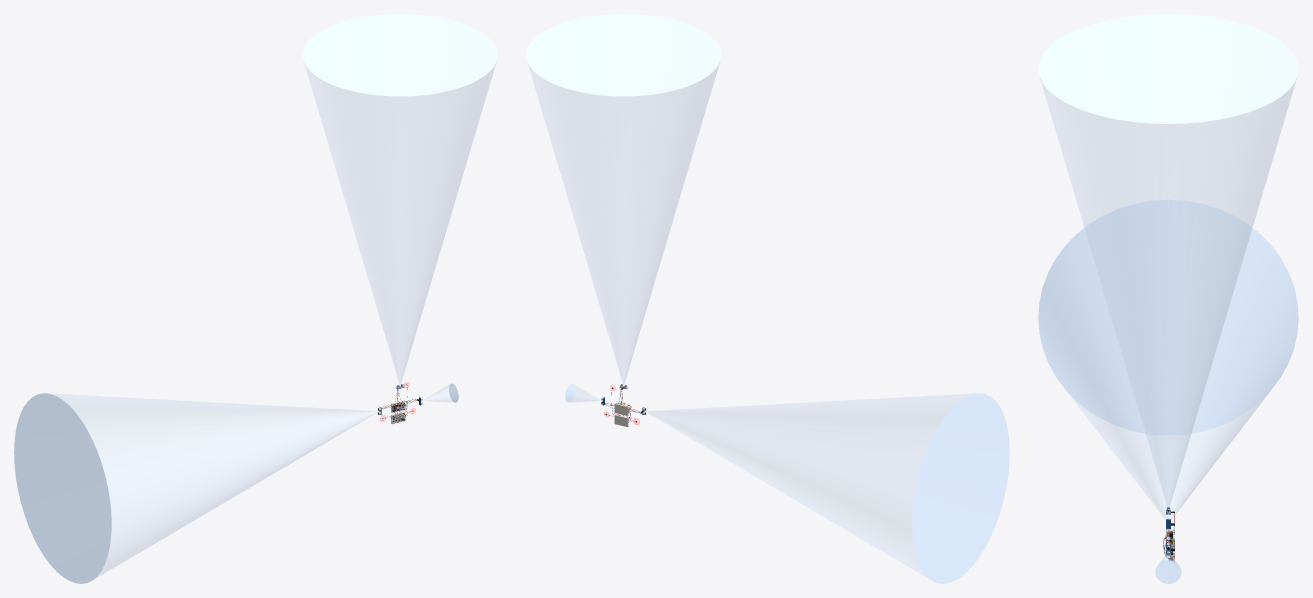
The model's file is belt_for_blind.glb.
The picture shows the model from 3 angles, left to right: view 1: azimuth 30°, elevation 25°; view 2: azimuth 150°, elevation 25°; view 3: azimuth 270°, elevation 25°; orthographic projection. The views are drawn at different scales.
Parts seen in each view (by area): view 1: Live beam Center, Live beam Left; view 2: Live beam Center, Live beam Left; view 3: Live beam Center, Live beam Left, Live beam Right.
Part boxes in pixels (bbox=[...]): Live beam Center: bbox=[302, 14, 497, 385]; Live beam Left: bbox=[14, 393, 378, 583]; Live beam Center: bbox=[526, 14, 721, 385]; Live beam Left: bbox=[645, 393, 1009, 583]; Live beam Center: bbox=[1038, 14, 1298, 509]; Live beam Left: bbox=[1038, 199, 1298, 519]; Live beam Right: bbox=[1155, 551, 1181, 583].
Bounding box in the file's own units: 2.67 × 2.66 × 1.07.
